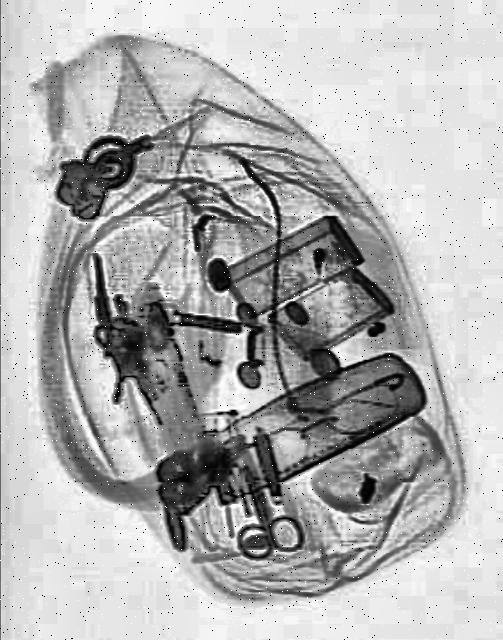Scissors: (207, 432, 304, 568)
